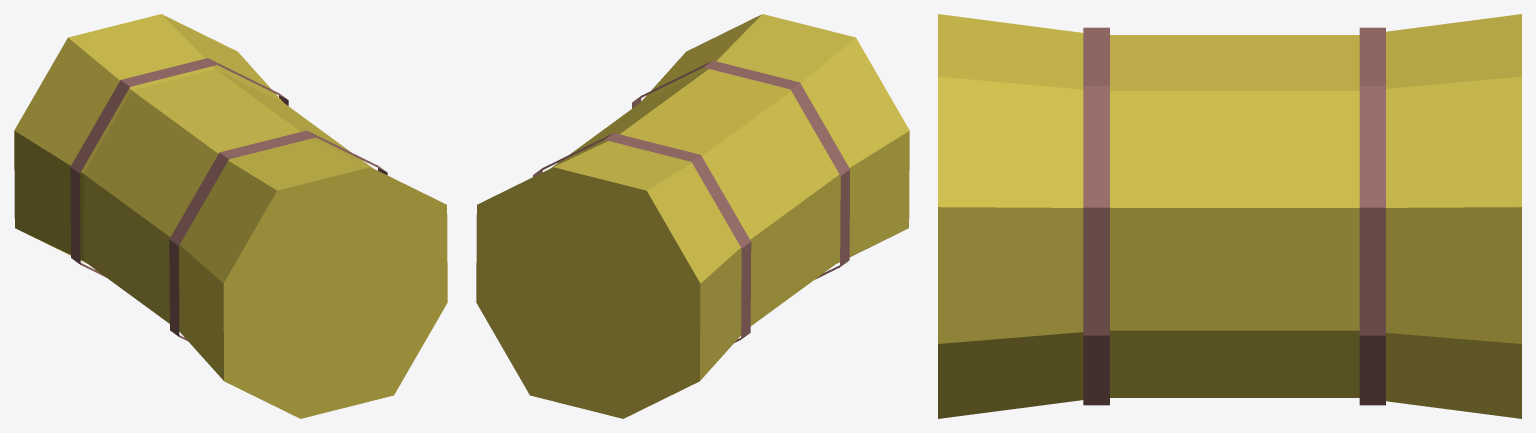
The model's file is hay_3.fbx.
The picture shows the model from 3 angles, left to right: view 1: azimuth 30°, elevation 25°; view 2: azimuth 150°, elevation 25°; view 3: azimuth 270°, elevation 25°; orthographic projection. The views are drawn at different scales.
Visible parts, largest first — view 1: hay_3; view 2: hay_3; view 3: hay_3.
Part boxes in pixels (x1,y1,x2,y2): hay_3: (14,14,447,418); hay_3: (476,14,909,418); hay_3: (938,14,1521,418).
Size of the model in its own units: 189 by 189 by 306.
